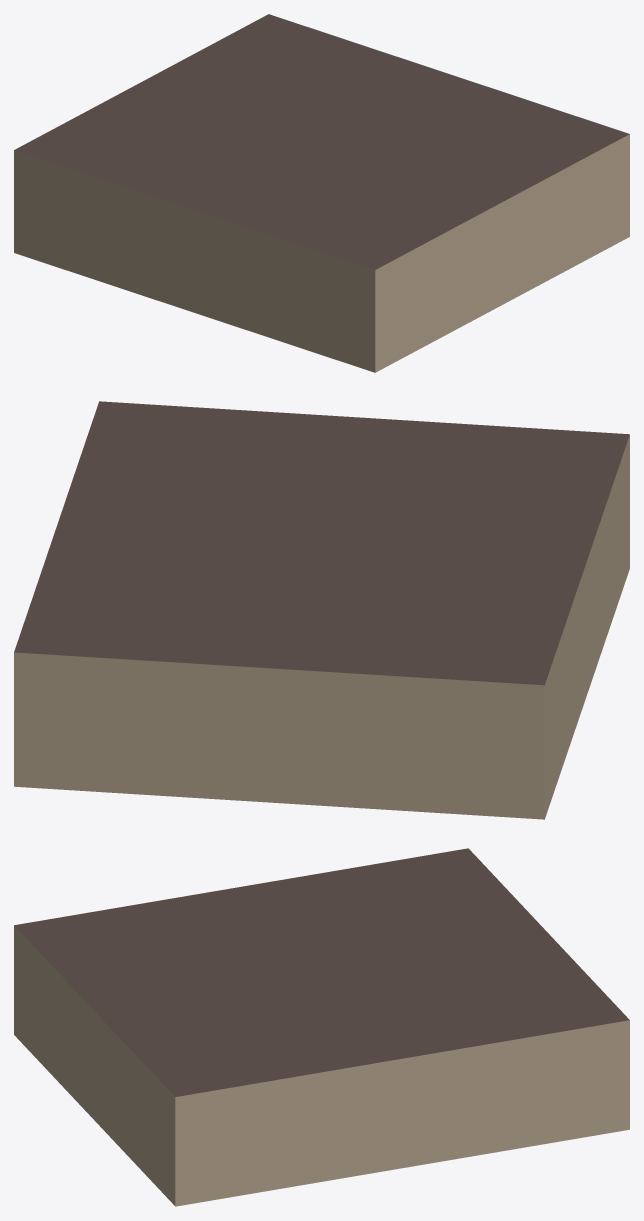
The picture shows the model from 3 angles, top to bottom: view 1: azimuth 30°, elevation 25°; view 2: azimuth 150°, elevation 25°; view 3: azimuth 270°, elevation 25°; orthographic projection. The views are drawn at different scales.
Visible parts, largest first — view 1: HP-w859086184; view 2: HP-w859086184; view 3: HP-w859086184.
Boxes of the visible parts, box(x1,y1,x2,y2) form: HP-w859086184: box(14, 14, 629, 372); HP-w859086184: box(14, 401, 629, 819); HP-w859086184: box(14, 848, 629, 1206).
Size of the model in its own units: 29.23 by 6 by 30.58.
